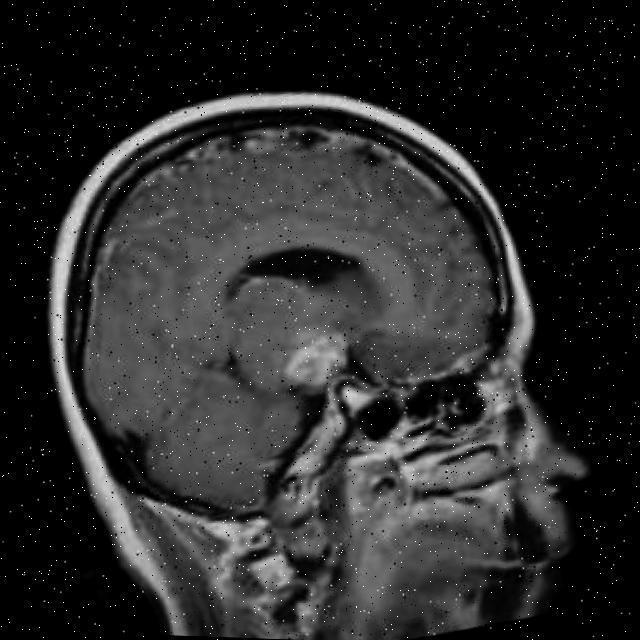EMCI: (207, 259, 436, 437)
